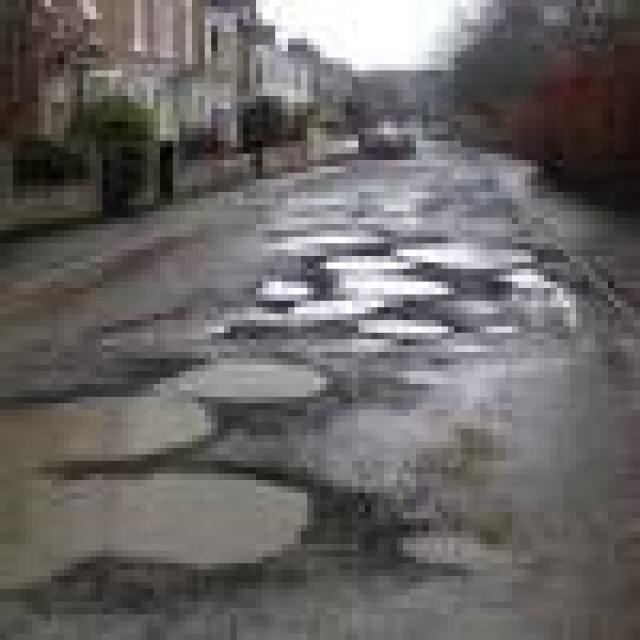Pothole: (0, 237, 525, 461)
